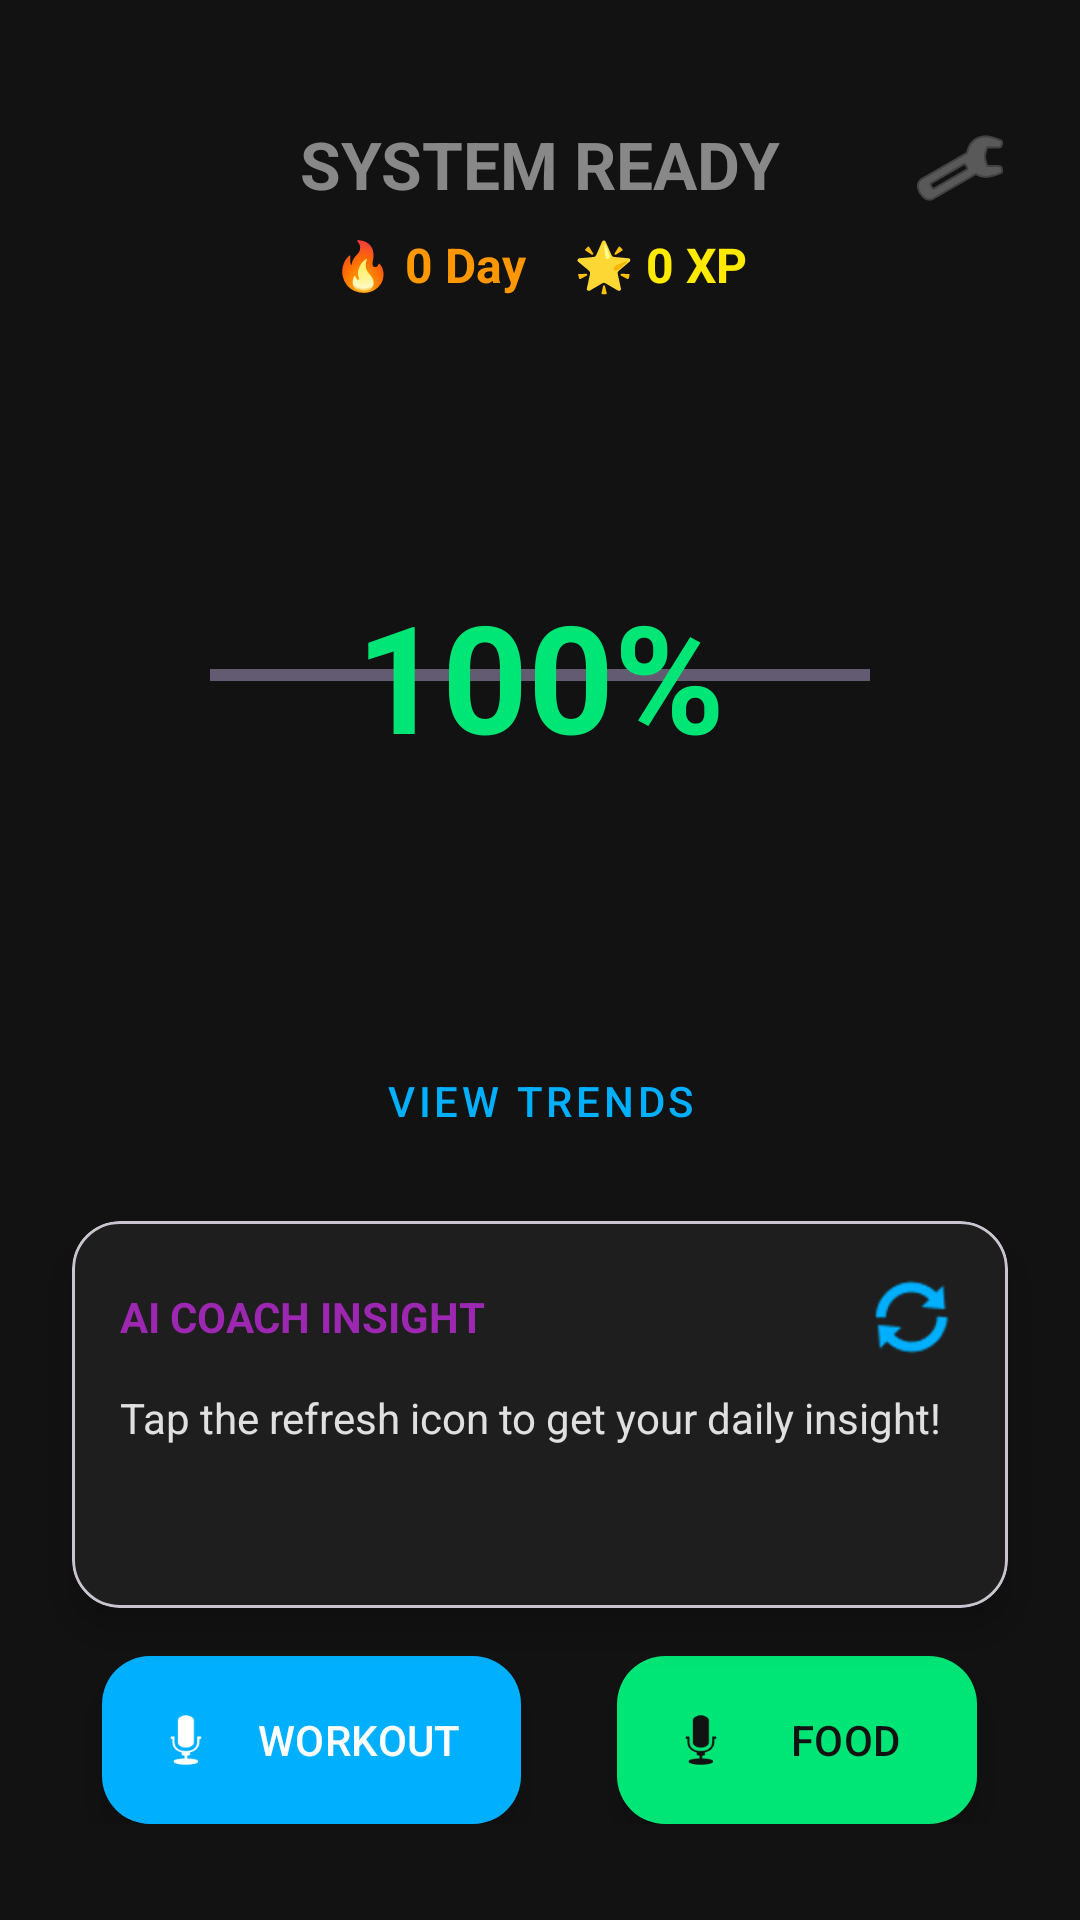

Icon click points for this 1080w x 1920h phone screenshot, format point (x, y):
popup sync: point (912, 1317)
preferences: point (960, 168)
